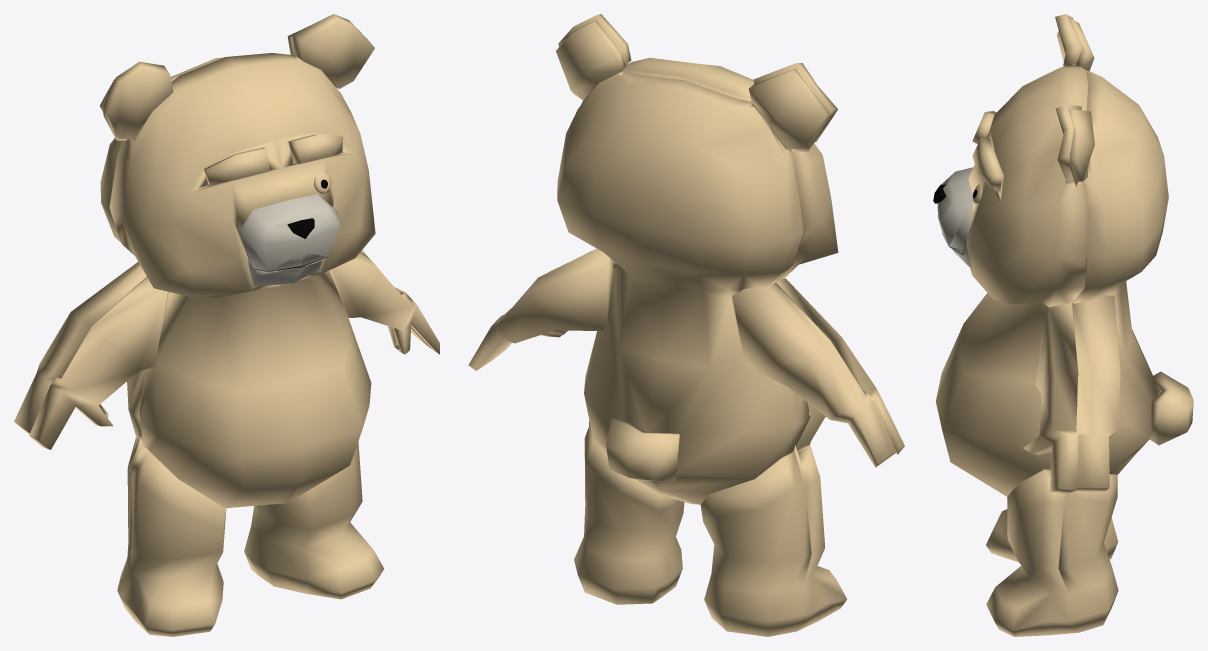
Rendered from ted.dae.
3 renders of one model, left to right at view 1: azimuth 30°, elevation 25°; view 2: azimuth 150°, elevation 25°; view 3: azimuth 270°, elevation 25°, orthographic. The views are drawn at different scales.
Visible parts, largest first — view 1: Cube_002_Material_005, Cube_002_Material_003, Cube_002_Material_006, Cube_002_Material_002; view 2: Cube_002_Material_005, Cube_002_Material_003; view 3: Cube_002_Material_003, Cube_002_Material_005, Cube_002_Material_006, Cube_002_Material_002.
Part boxes in pixels (x1=…): Cube_002_Material_005: x1=14, y1=14, x2=439, y2=636; Cube_002_Material_003: x1=33, y1=15, x2=439, y2=636; Cube_002_Material_006: x1=239, y1=194, x2=340, y2=285; Cube_002_Material_002: x1=239, y1=194, x2=330, y2=285; Cube_002_Material_005: x1=474, y1=14, x2=904, y2=636; Cube_002_Material_003: x1=468, y1=15, x2=904, y2=636; Cube_002_Material_003: x1=941, y1=14, x2=1193, y2=636; Cube_002_Material_005: x1=936, y1=14, x2=1192, y2=630; Cube_002_Material_006: x1=937, y1=167, x2=973, y2=267; Cube_002_Material_002: x1=938, y1=183, x2=972, y2=268.
Bounding box in the file's own units: 7.71 × 4.5 × 10.
